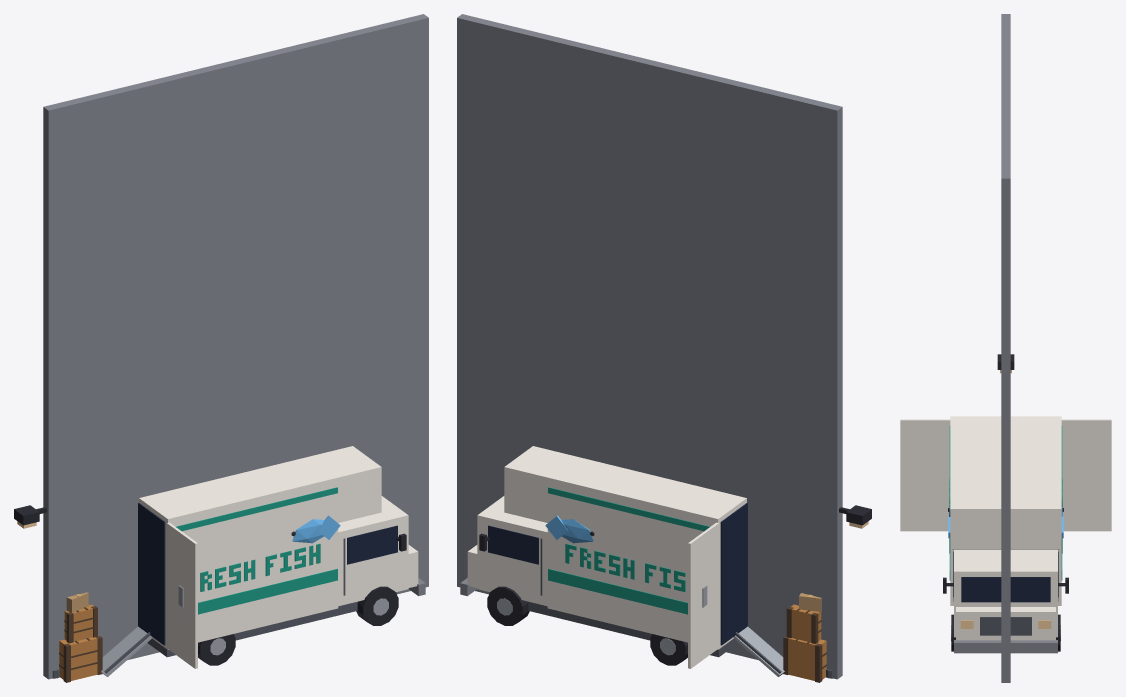
Rendered from CatCafe_Alley_Blocker_Van.glb.
3 renders of one model, left to right at view 1: azimuth 30°, elevation 25°; view 2: azimuth 150°, elevation 25°; view 3: azimuth 270°, elevation 25°, orthographic. The views are drawn at different scales.
Visible parts, largest first — view 1: CatCafe_Alley_Blocker_Van_Barrier, CatCafe_Alley_Blocker_Van; view 2: CatCafe_Alley_Blocker_Van_Barrier, CatCafe_Alley_Blocker_Van; view 3: CatCafe_Alley_Blocker_Van, CatCafe_Alley_Blocker_Van_Barrier.
Part boxes in pixels (box(x1,y1,x2,y2)): CatCafe_Alley_Blocker_Van_Barrier: box(43, 14, 428, 679); CatCafe_Alley_Blocker_Van: box(14, 446, 425, 682); CatCafe_Alley_Blocker_Van_Barrier: box(457, 14, 842, 679); CatCafe_Alley_Blocker_Van: box(460, 446, 871, 682); CatCafe_Alley_Blocker_Van: box(900, 354, 1111, 653); CatCafe_Alley_Blocker_Van_Barrier: box(1001, 14, 1010, 682).
Size of the model in its own units: 22.5 by 30.01 by 11.4.
1 material, 1 textured.
